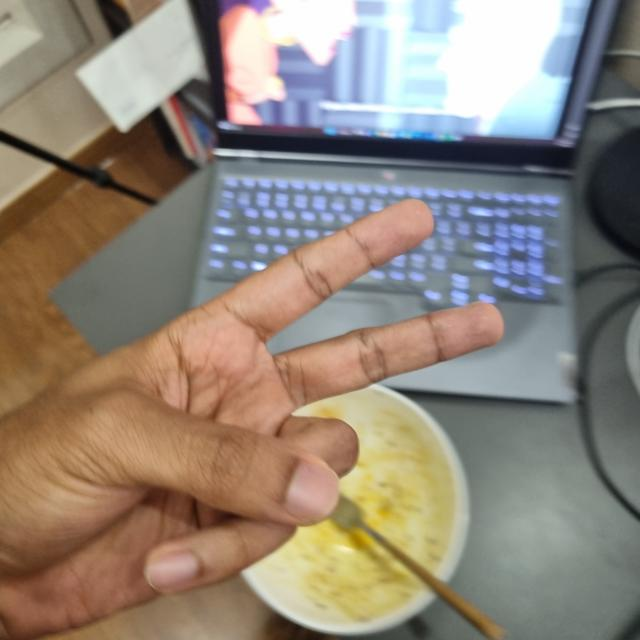Scissors: (0, 199, 506, 633)
